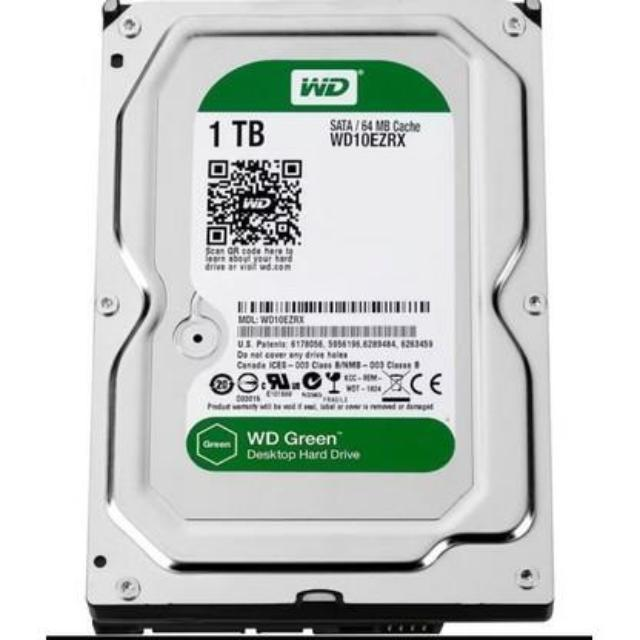DISK: (87, 0, 553, 623)
